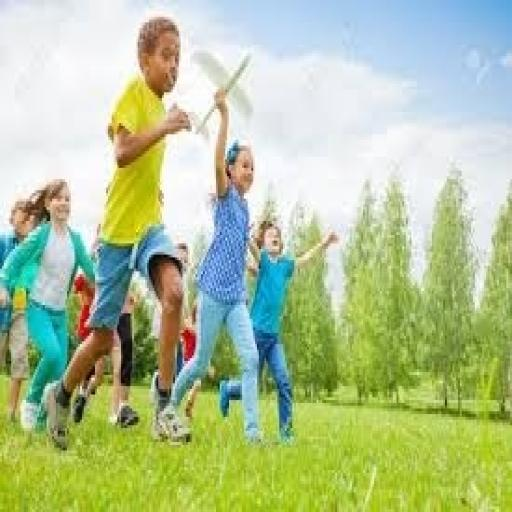running: (41, 14, 195, 450)
